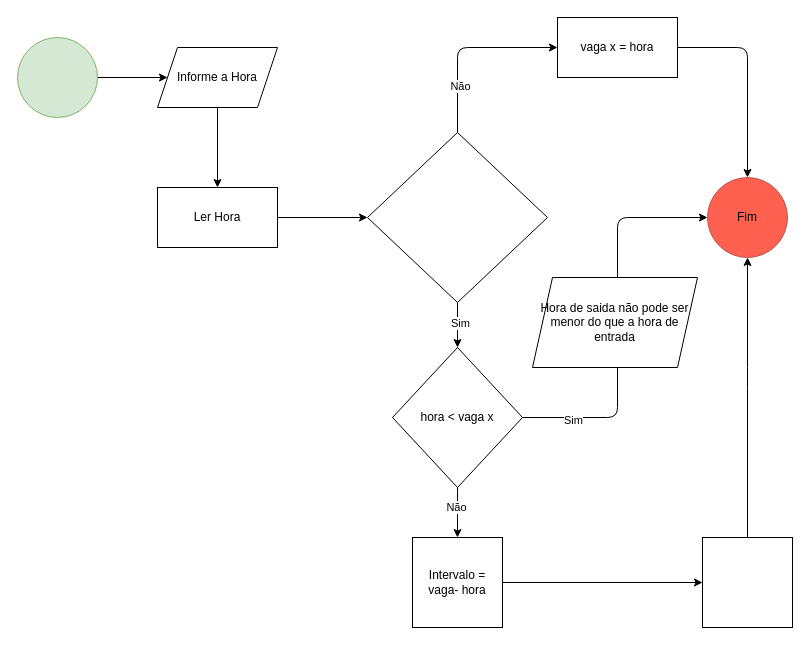
The diagram is 810 pixels wide and 645 high, and some of its shapes have lost their labels. Each missing label, with the box of its shape:
Inicio: (16, 36, 98, 118)
vaga x = não ocupada: (702, 536, 792, 628)
È uma vaga ocupada?: (366, 132, 548, 302)
